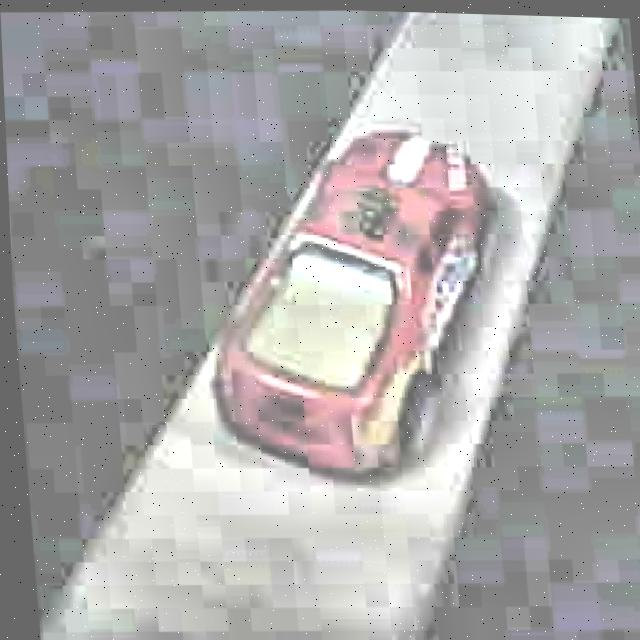car: (188, 118, 521, 497)
